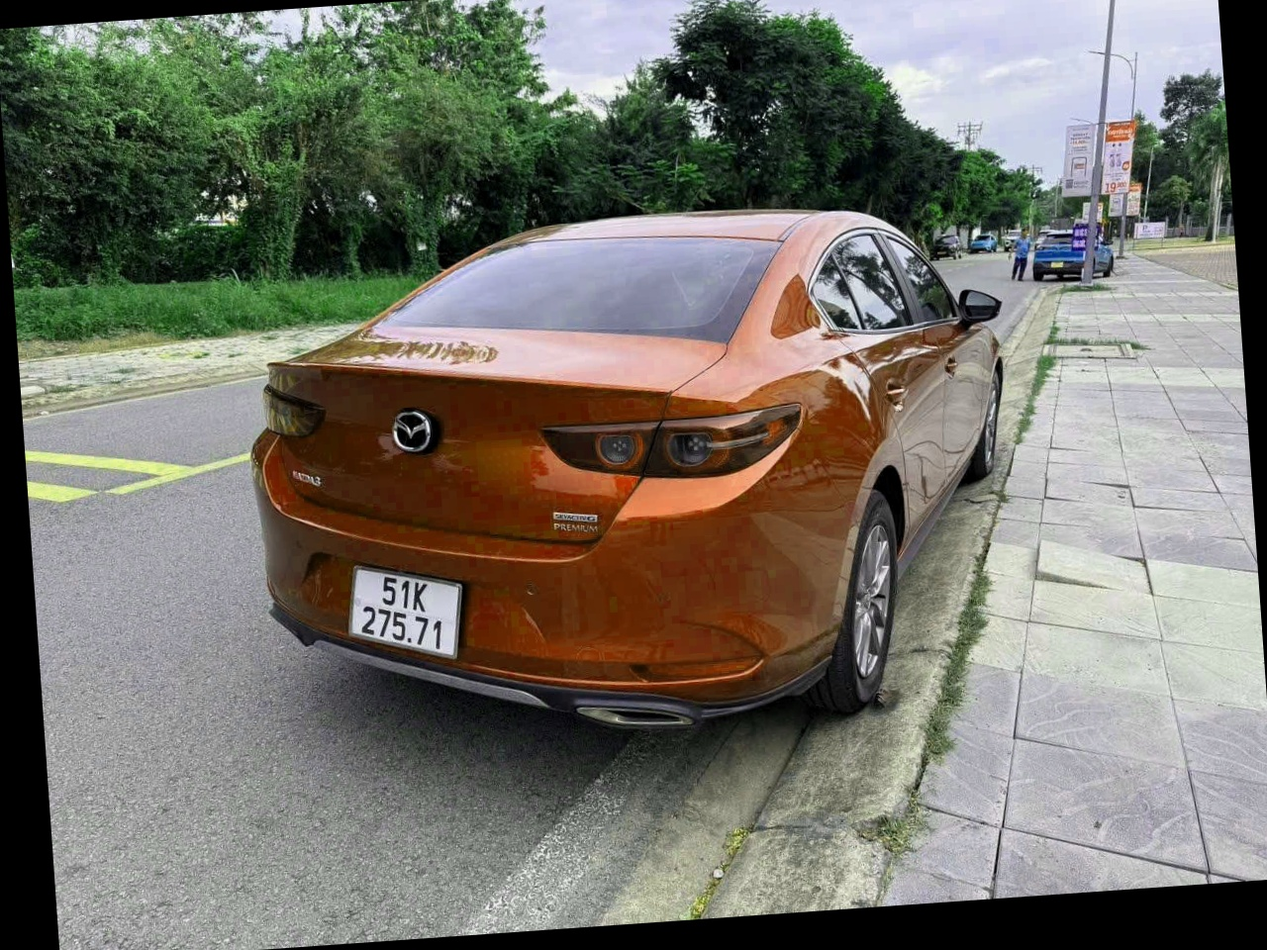Bien-so: (339, 548, 467, 642)
